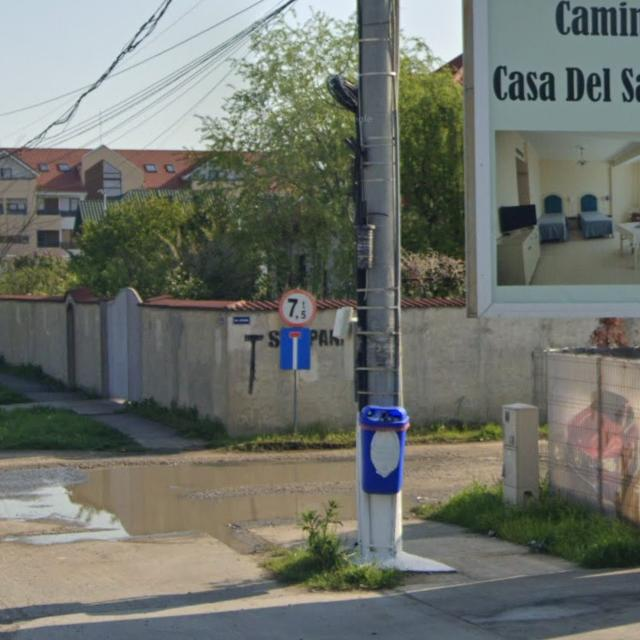forb_weight_over_7.5t: (279, 288, 317, 326)
